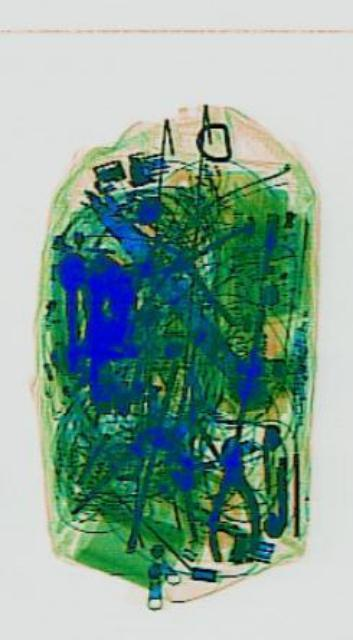Pliers: (141, 195, 254, 329), (205, 432, 258, 560)
